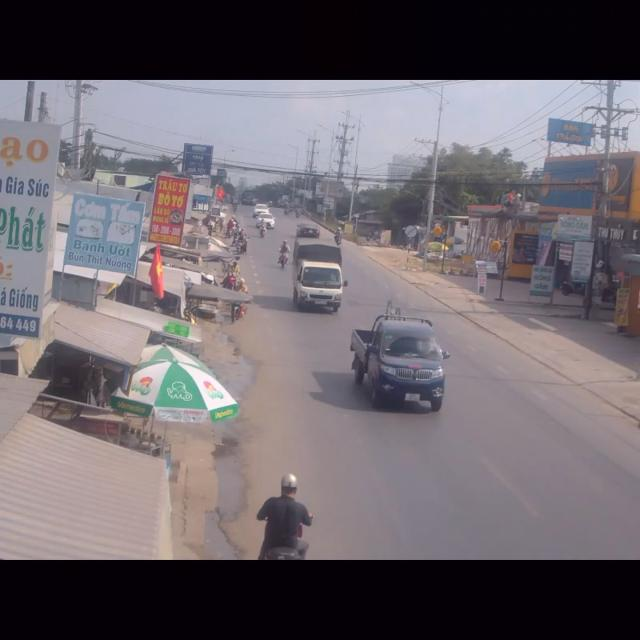truck: (348, 312, 446, 414), (290, 227, 345, 314)
